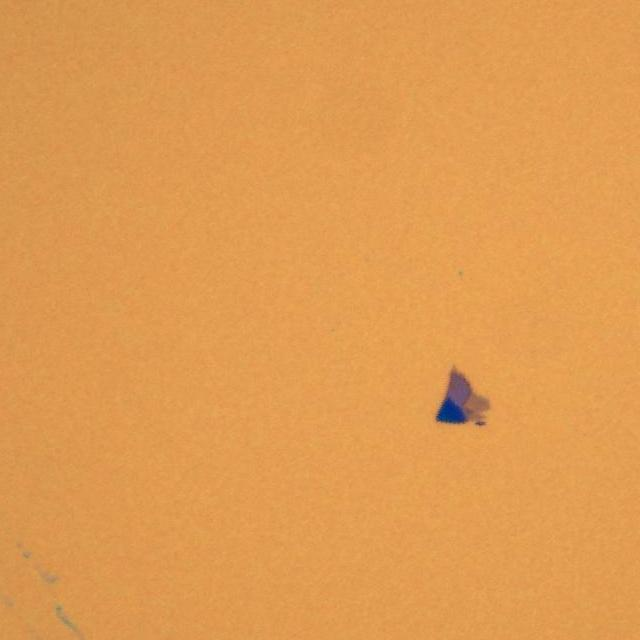monolayer-eWW4: (464, 392, 490, 412)
